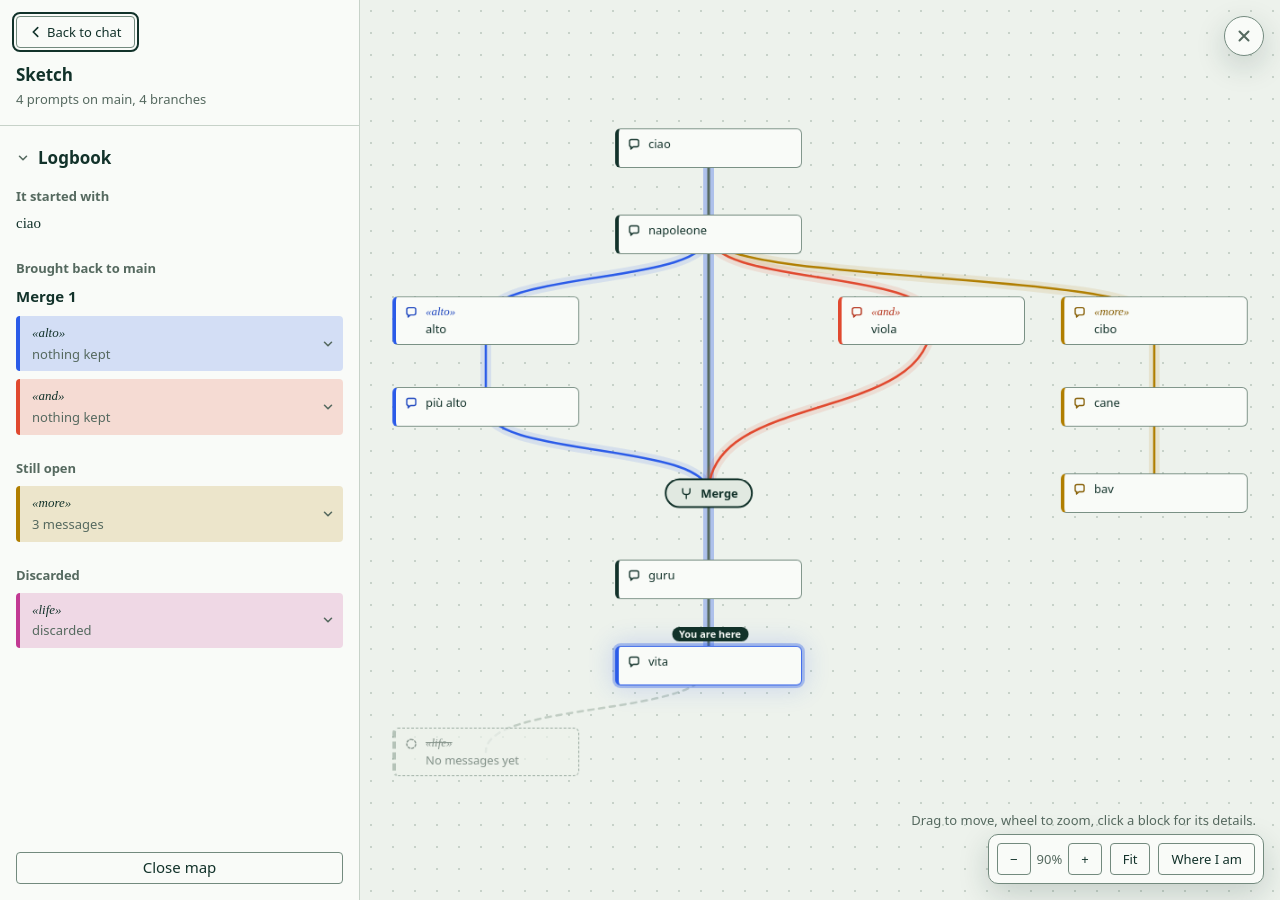
ConversationMap full screen › folds the logbook away and remembers it
The image size is (1280, 900).
Expected: the button "Merge 1" is shown, [16, 286, 76, 308]
Click the button "Logbook" at (75, 157), box [12, 142, 339, 174]
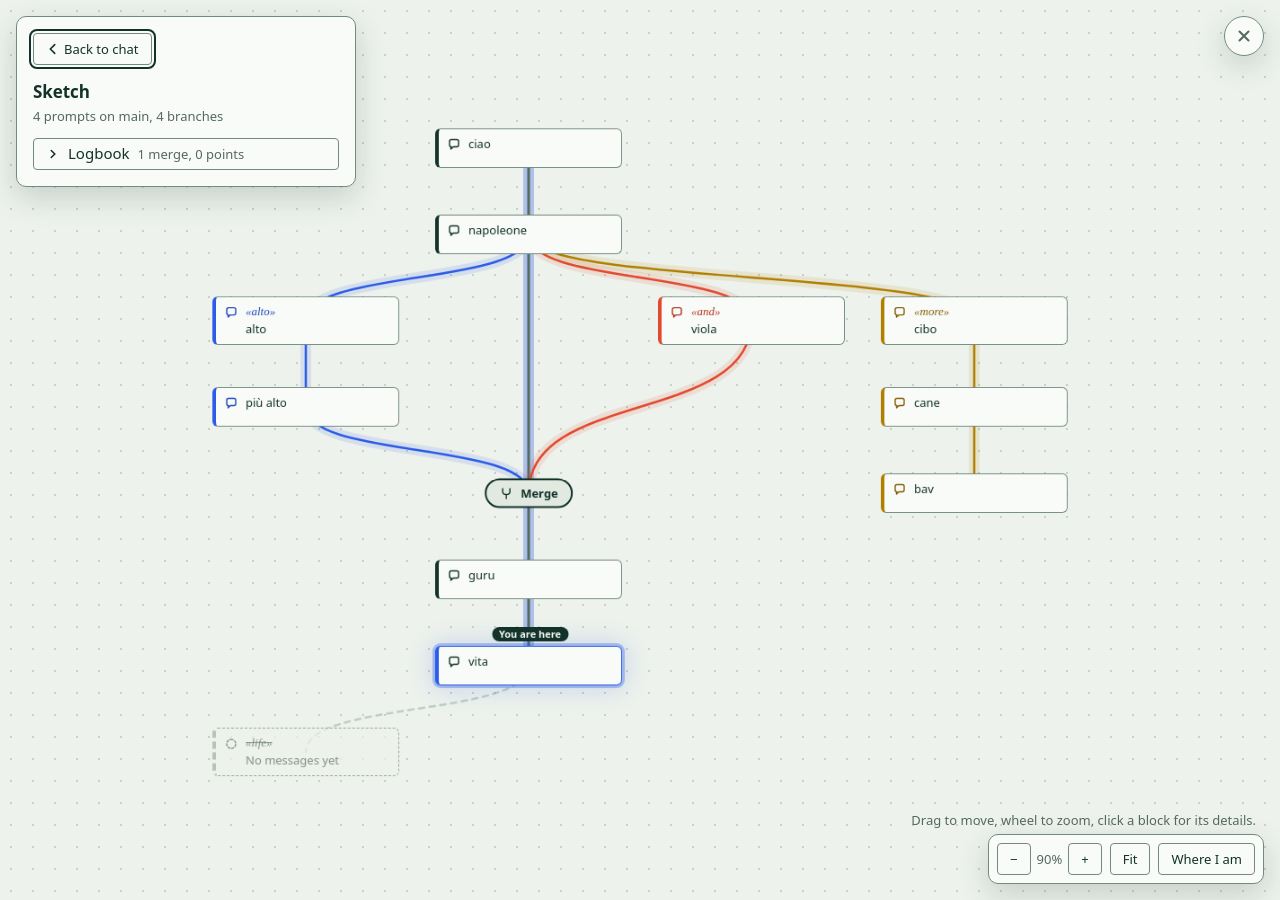
Result: the button "Merge 1" is gone
Result: the button "Logbook 1 merge, 0 points" is shown at [33, 138, 339, 170]
